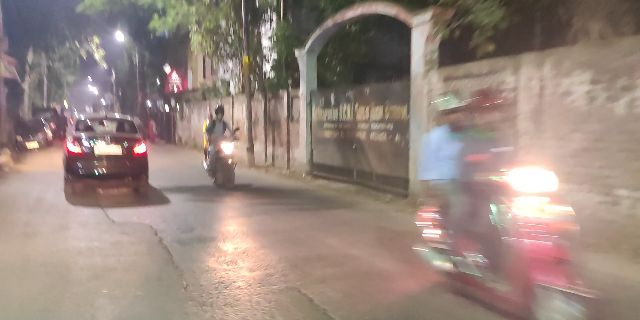Car: (64, 110, 149, 187)
Motorbike: (416, 101, 589, 309), (200, 101, 243, 189)
